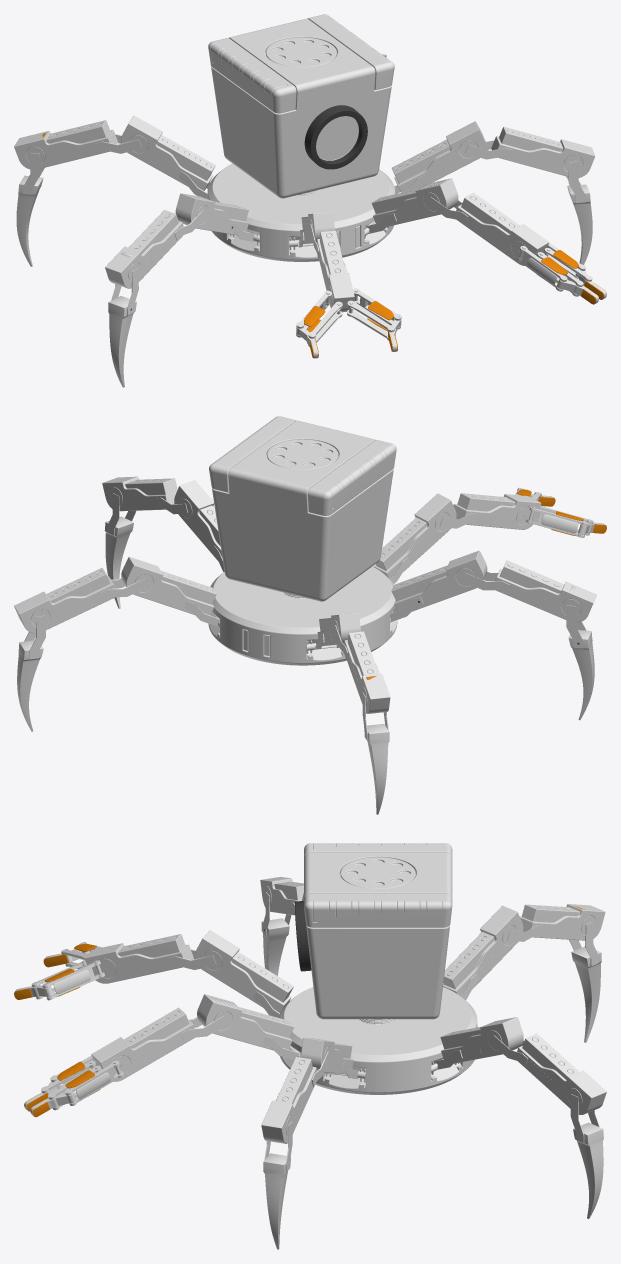
File: 1mob.fbx
3 views of the same model, one above another, from view 1: azimuth 30°, elevation 25°; view 2: azimuth 150°, elevation 25°; view 3: azimuth 270°, elevation 25° (orthographic). The views are drawn at different scales.
Visible parts, largest first — view 1: Cube, Cylinder, Cylinder.002, Joint 1.002, Joint 1.001, Joint 1.016, Joint 1.013, Joint 1.014, Joint 1.012, Joint 1.015, Joint 1.008, Joint 1.011 (+10 smaller); view 2: Cube, Cylinder, Joint 1.007, Joint 1.004, Joint 1.012, Joint 1.011, Joint 1.003, Joint 1.008, Joint 1.014, Joint 1.002, Joint 1.001, Cube.004 (+7 smaller); view 3: Cube, Cylinder, Joint 1.007, Joint 1.016, Joint 1.008, Joint 1.013, Joint 1.004, Joint 1.015, Joint 1.002, Joint 1.014, Joint 1.003, Cube.002 (+9 smaller).
Boxes of the visible parts, x1,y1,x2,y2 form: Cube: [208, 14, 394, 198]; Cylinder: [207, 163, 395, 261]; Cylinder.002: [304, 105, 367, 169]; Joint 1.002: [491, 126, 595, 177]; Joint 1.001: [392, 121, 486, 192]; Joint 1.016: [456, 192, 549, 265]; Joint 1.013: [121, 115, 215, 190]; Joint 1.014: [14, 120, 118, 169]; Joint 1.012: [105, 210, 183, 288]; Joint 1.015: [371, 178, 458, 226]; Joint 1.008: [317, 230, 354, 312]; Joint 1.011: [175, 193, 248, 235]; Cube: [209, 416, 396, 601]; Cylinder: [208, 566, 397, 665]; Joint 1.007: [373, 493, 456, 578]; Joint 1.004: [14, 567, 115, 633]; Joint 1.012: [495, 560, 596, 622]; Joint 1.011: [391, 550, 487, 611]; Joint 1.003: [121, 556, 216, 615]; Joint 1.008: [453, 493, 541, 529]; Joint 1.014: [344, 631, 390, 713]; Joint 1.002: [102, 476, 177, 511]; Joint 1.001: [174, 480, 222, 561]; Cube.004: [364, 724, 389, 814]; Cube: [304, 843, 452, 1019]; Cylinder: [279, 987, 477, 1094]; Joint 1.007: [194, 930, 293, 1013]; Joint 1.016: [91, 1007, 194, 1081]; Joint 1.008: [84, 934, 193, 983]; Joint 1.013: [443, 905, 523, 995]; Joint 1.004: [517, 1033, 606, 1114]; Joint 1.015: [197, 994, 294, 1050]; Joint 1.002: [261, 1057, 316, 1143]; Joint 1.014: [519, 904, 605, 940]; Joint 1.003: [440, 1017, 523, 1063]; Cube.002: [573, 1122, 603, 1218].
Size of the model in its own units: 111 by 53.13 by 110.
